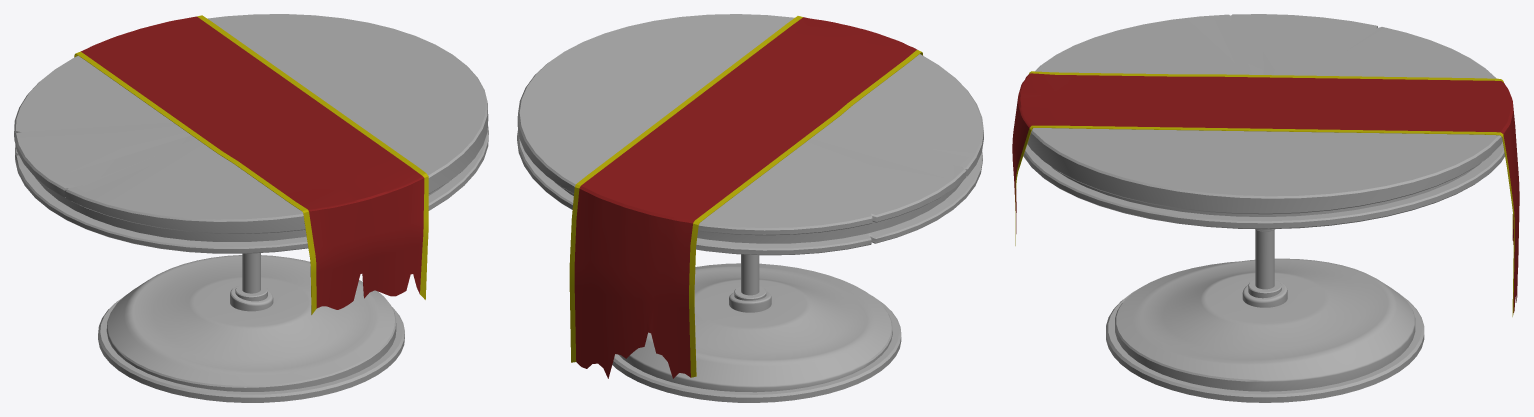
The model's file is Table_fbx.fbx.
The picture shows the model from 3 angles, left to right: view 1: azimuth 30°, elevation 25°; view 2: azimuth 150°, elevation 25°; view 3: azimuth 270°, elevation 25°; orthographic projection. The views are drawn at different scales.
Visible parts, largest first — view 1: pCylinder1, pPlane1; view 2: pCylinder1, pPlane1; view 3: pCylinder1, pPlane1.
Part boxes in pixels (x1,y1,x2,y2): pCylinder1: (14,14,488,402); pPlane1: (74,15,428,314); pCylinder1: (517,14,983,402); pPlane1: (569,16,922,378); pCylinder1: (1023,14,1504,402); pPlane1: (1012,71,1519,316).
Size of the model in its own units: 8.89 by 4.83 by 9.15.
